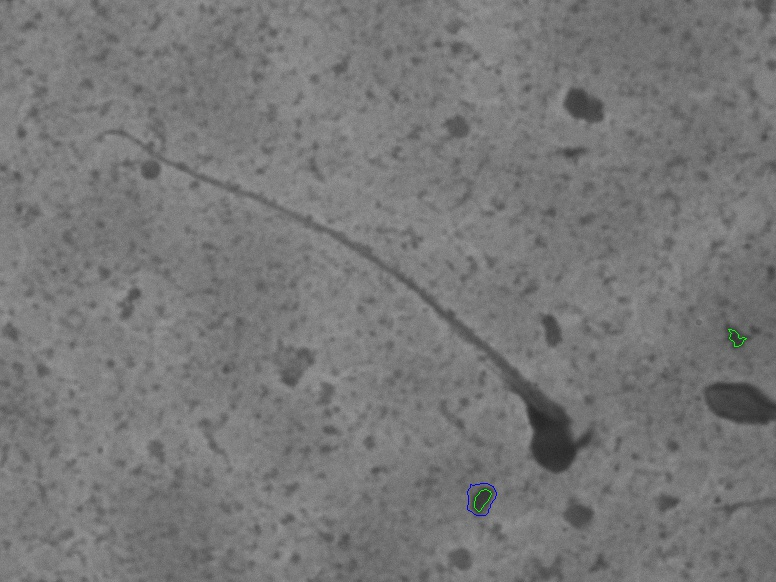Abnormal: (90, 103, 617, 522)
